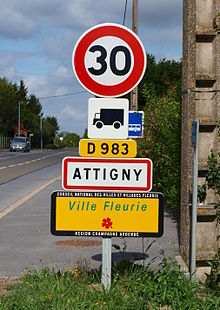Speed_limit_30km: (71, 23, 146, 97)
car: (8, 134, 31, 153)
